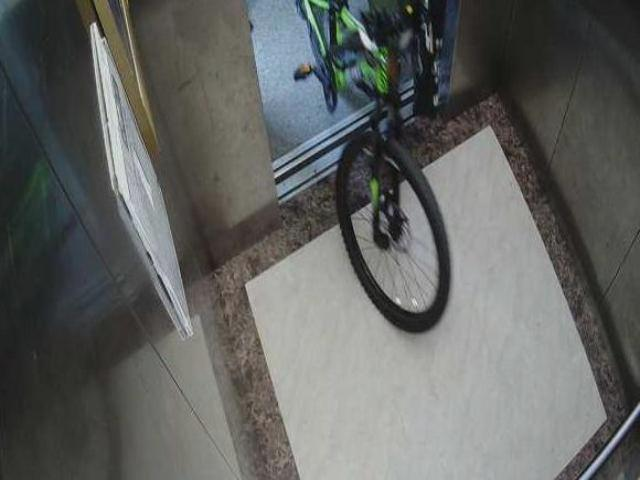bicycle: (277, 13, 477, 356)
